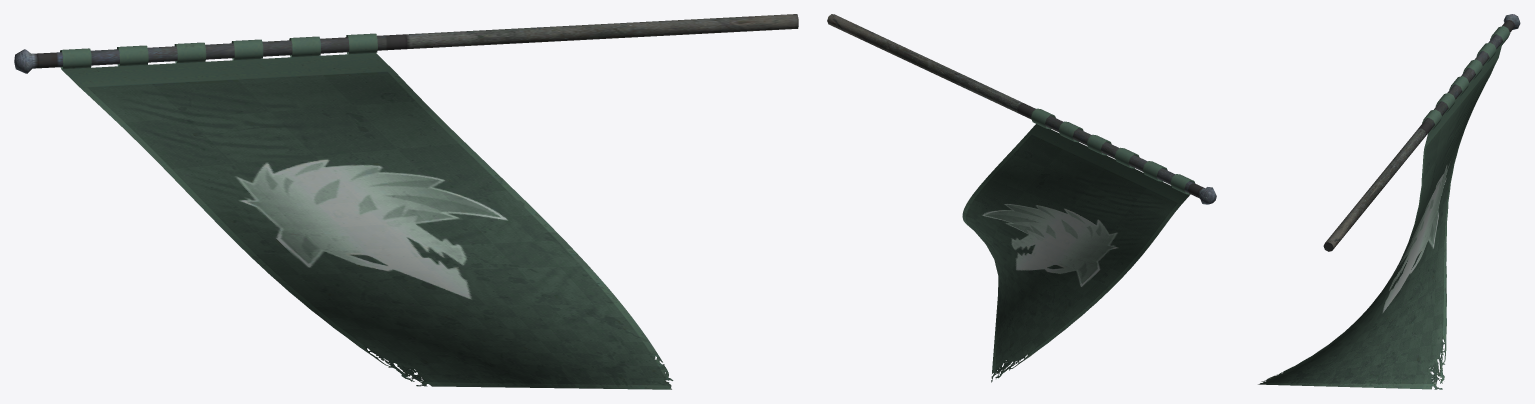
Rendered from mp_flag_allies_3_carry_LOD0.obj.
3 renders of one model, left to right at view 1: azimuth 30°, elevation 25°; view 2: azimuth 150°, elevation 25°; view 3: azimuth 270°, elevation 25°, orthographic. The views are drawn at different scales.
Visible parts, largest first — view 1: mtl_flag_allies_3, mtl_mp_flag_base; view 2: mtl_flag_allies_3, mtl_mp_flag_base; view 3: mtl_flag_allies_3, mtl_mp_flag_base.
Part boxes in pixels (left/top/right/bottom): mtl_flag_allies_3: left=60, top=33, right=673, bottom=389; mtl_mp_flag_base: left=14, top=14, right=798, bottom=73; mtl_flag_allies_3: left=962, top=108, right=1195, bottom=382; mtl_mp_flag_base: left=827, top=14, right=1216, bottom=204; mtl_flag_allies_3: left=1258, top=26, right=1510, bottom=389; mtl_mp_flag_base: left=1323, top=14, right=1520, bottom=251.
Size of the model in its own units: 131 by 74.03 by 69.83.
